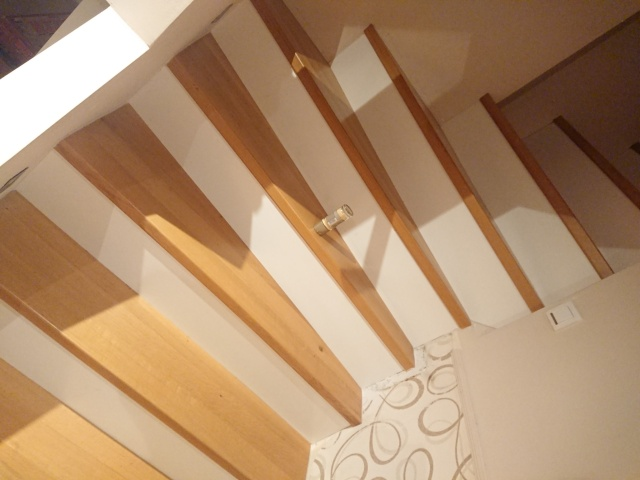Kotanyi Garlic Granules 70g: (312, 203, 355, 238)
